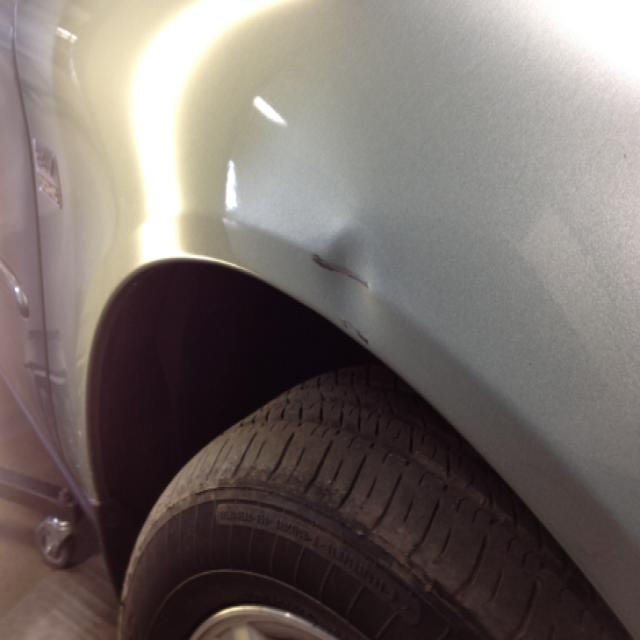dents: (316, 220, 385, 338)
